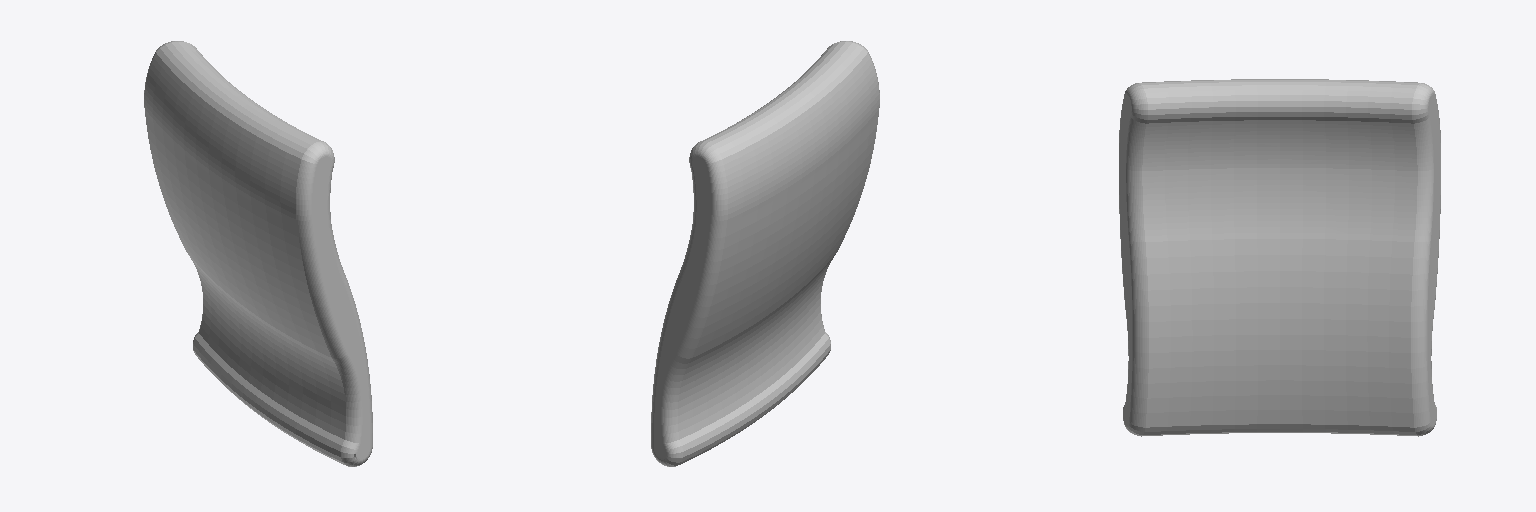
File: backseat.obj
3 views of the same model, side by side, from view 1: azimuth 30°, elevation 25°; view 2: azimuth 150°, elevation 25°; view 3: azimuth 270°, elevation 25° (orthographic).
Parts seen in each view (by area): view 1: mesh27.003_mesh27-geometry; view 2: mesh27.003_mesh27-geometry; view 3: mesh27.003_mesh27-geometry.
Part boxes in pixels (x1,y1,x2,y2): mesh27.003_mesh27-geometry: (144,41,372,466); mesh27.003_mesh27-geometry: (651,41,879,466); mesh27.003_mesh27-geometry: (1119,79,1440,436).
Bounding box in the file's own units: 0.1282 × 0.4261 × 0.3745.